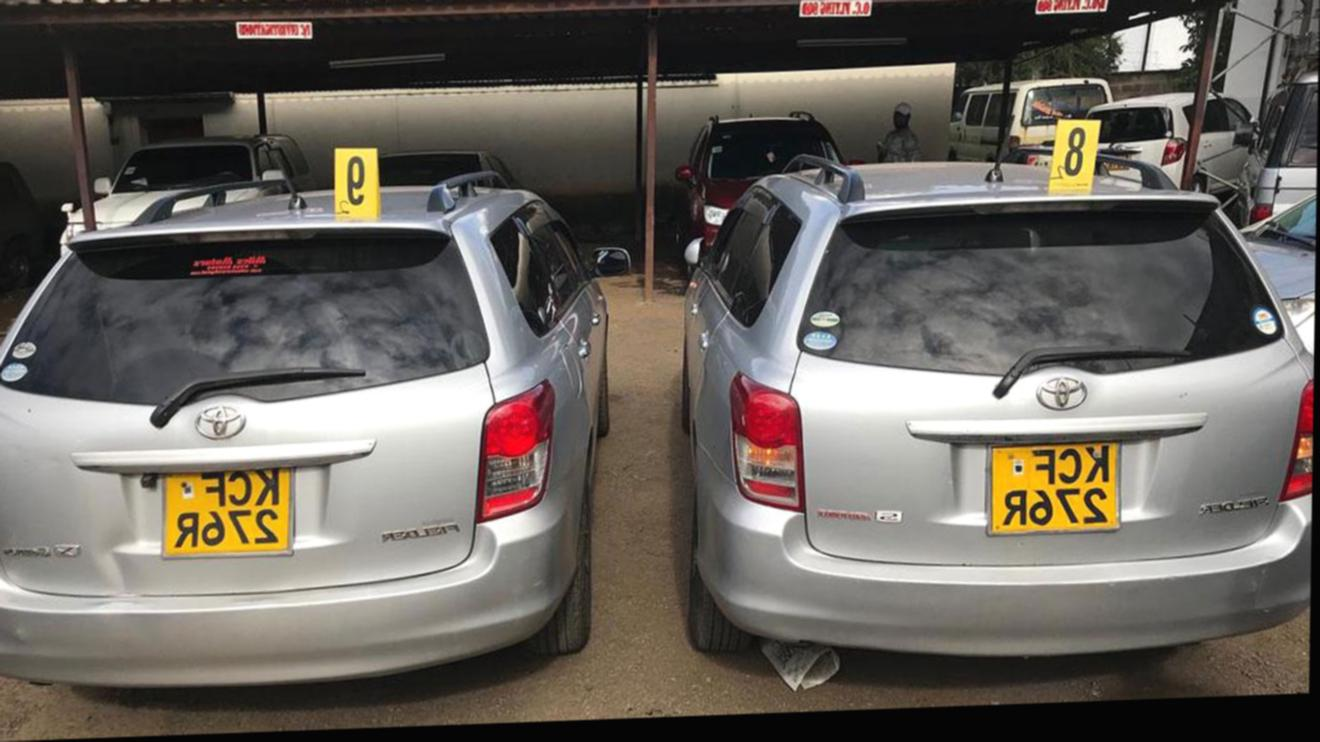License_Plate: (974, 434, 1129, 547), (151, 458, 299, 570)
